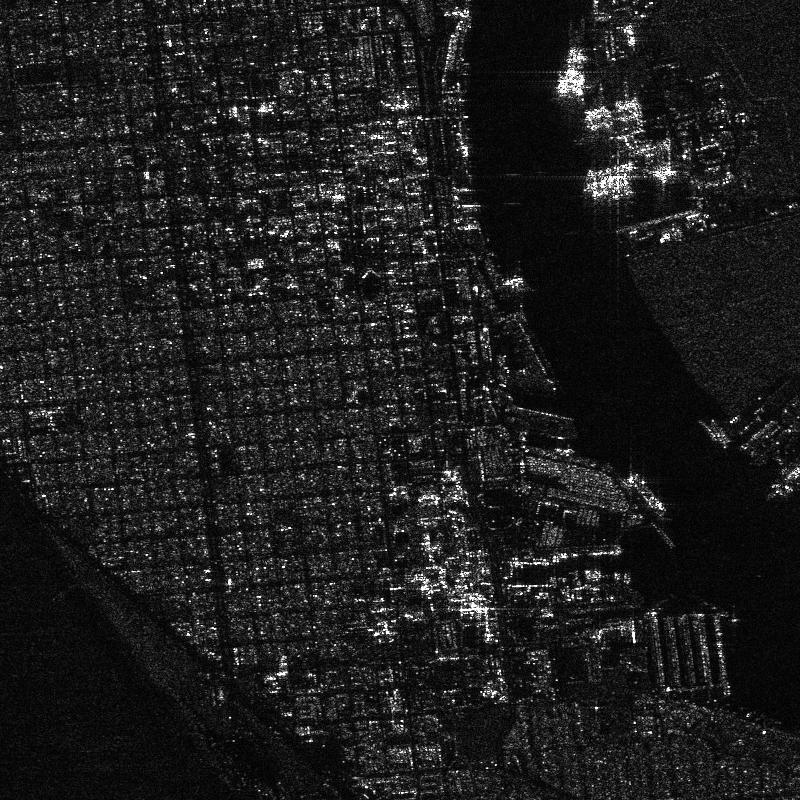ship: (628, 474, 667, 516), (585, 161, 634, 180), (751, 419, 777, 440), (710, 420, 730, 445), (699, 420, 716, 441), (591, 547, 622, 555), (741, 439, 753, 451), (554, 448, 574, 455), (532, 558, 549, 565), (549, 576, 557, 587), (594, 570, 601, 582), (623, 572, 630, 583), (462, 145, 468, 157), (584, 569, 591, 579), (614, 572, 620, 580)
